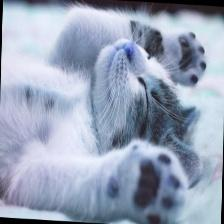kedo: (0, 5, 208, 223)
